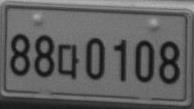0: (84, 36, 106, 80), (134, 38, 154, 83)
1: (111, 38, 132, 82)
8: (157, 40, 181, 84), (8, 32, 31, 76), (33, 32, 55, 77)
다: (57, 43, 79, 79)
